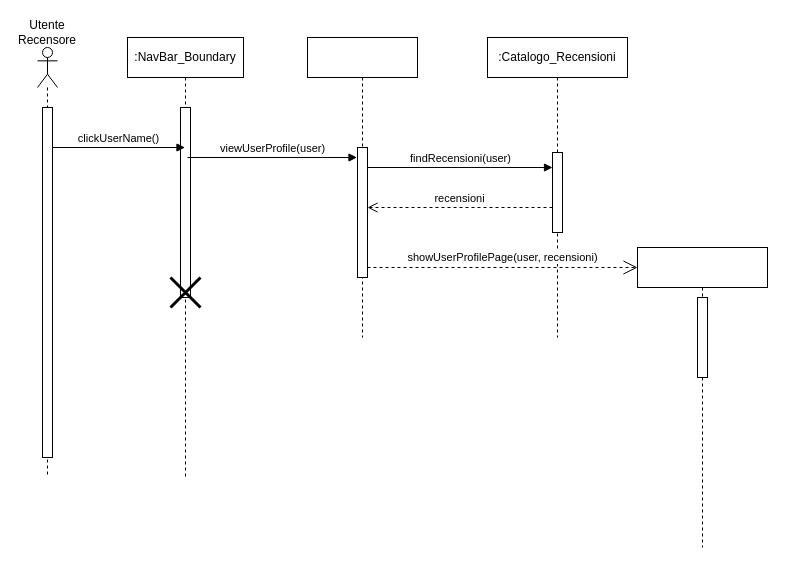
The diagram is 785 pixels wide and 565 high, and some of its shapes have lost their labels. Each missing label, with the box of its shape:
:UserProfile_Boundary: (636, 246, 768, 548)
:Utenti_Control: (306, 36, 418, 338)
